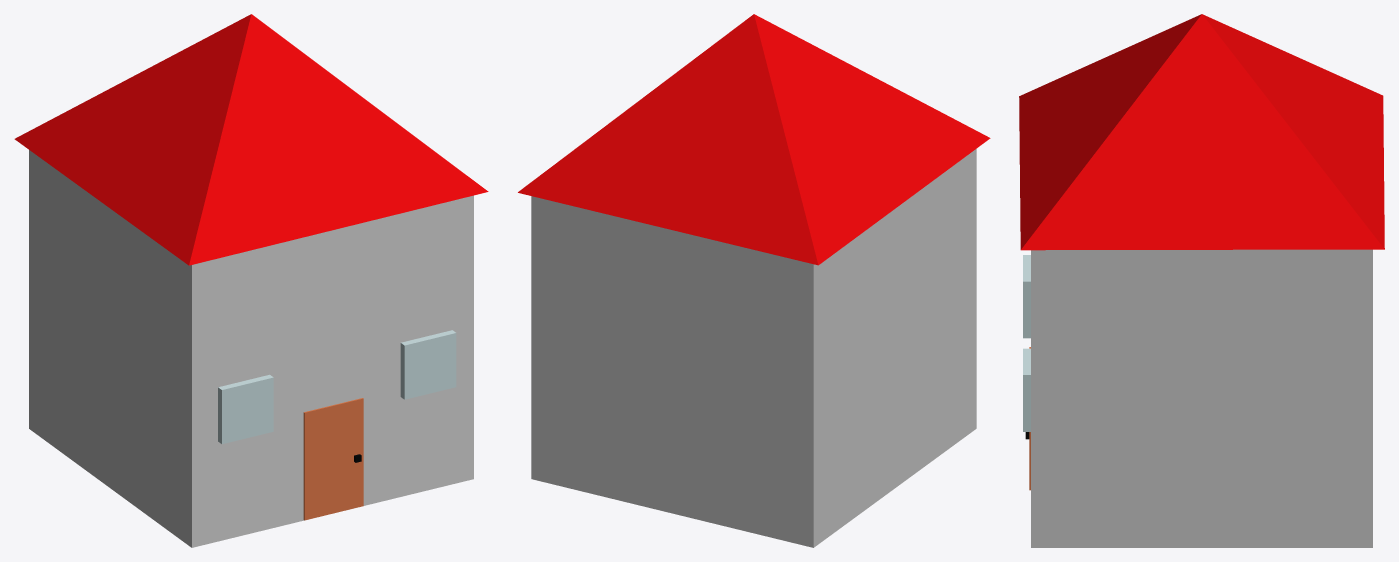
The model's file is Casa 2.fbx.
The picture shows the model from 3 angles, left to right: view 1: azimuth 30°, elevation 25°; view 2: azimuth 150°, elevation 25°; view 3: azimuth 270°, elevation 25°; orthographic projection. The views are drawn at different scales.
Parts seen in each view (by area): view 1: Cube, Cone, Cube.001, Cube.003, Cube.004; view 2: Cube, Cone; view 3: Cube, Cone, Cube.003, Cube.004.
Part boxes in pixels (box(x1,y1,x2,y2)): Cube: box(29, 150, 473, 547); Cone: box(14, 14, 488, 265); Cube.001: box(303, 398, 363, 520); Cube.003: box(400, 330, 456, 399); Cube.004: box(218, 374, 273, 444); Cube: box(531, 149, 976, 547); Cone: box(518, 14, 990, 265); Cube: box(1031, 249, 1372, 547); Cone: box(1019, 14, 1384, 250); Cube.003: box(1023, 348, 1030, 431); Cube.004: box(1023, 255, 1030, 338).
Size of the model in its own units: 134 by 186 by 134.
